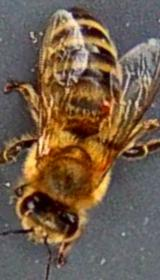varroa_mite: (88, 88, 126, 122)
